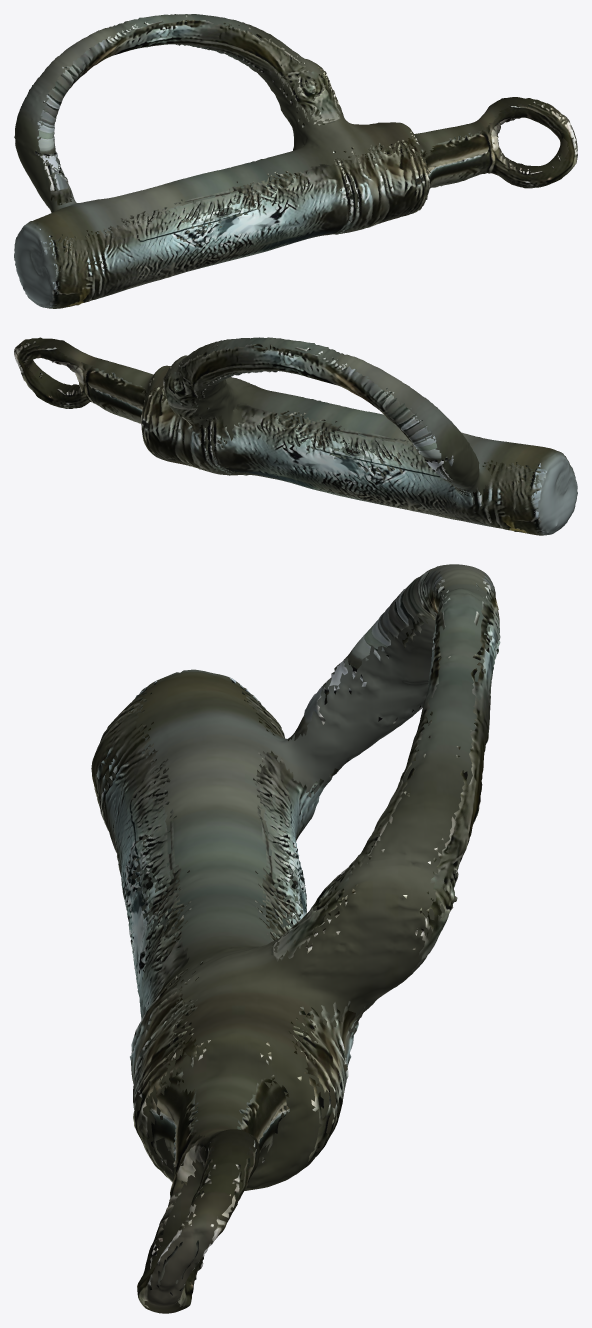
Rendered from kfl-2142.glb.
3 views of the same model, one above another, from view 1: azimuth 30°, elevation 25°; view 2: azimuth 150°, elevation 25°; view 3: azimuth 270°, elevation 25° (orthographic). The views are drawn at different scales.
Parts seen in each view (by area): view 1: kfl-2142; view 2: kfl-2142; view 3: kfl-2142.
Part boxes in pixels (x1,y1,x2,y2): kfl-2142: (14, 14, 577, 308); kfl-2142: (14, 337, 577, 535); kfl-2142: (91, 564, 500, 1313).
Bounding box in the file's own units: 0.9911 × 0.3478 × 0.3235.
Materials: 4 (4 with a texture image).
